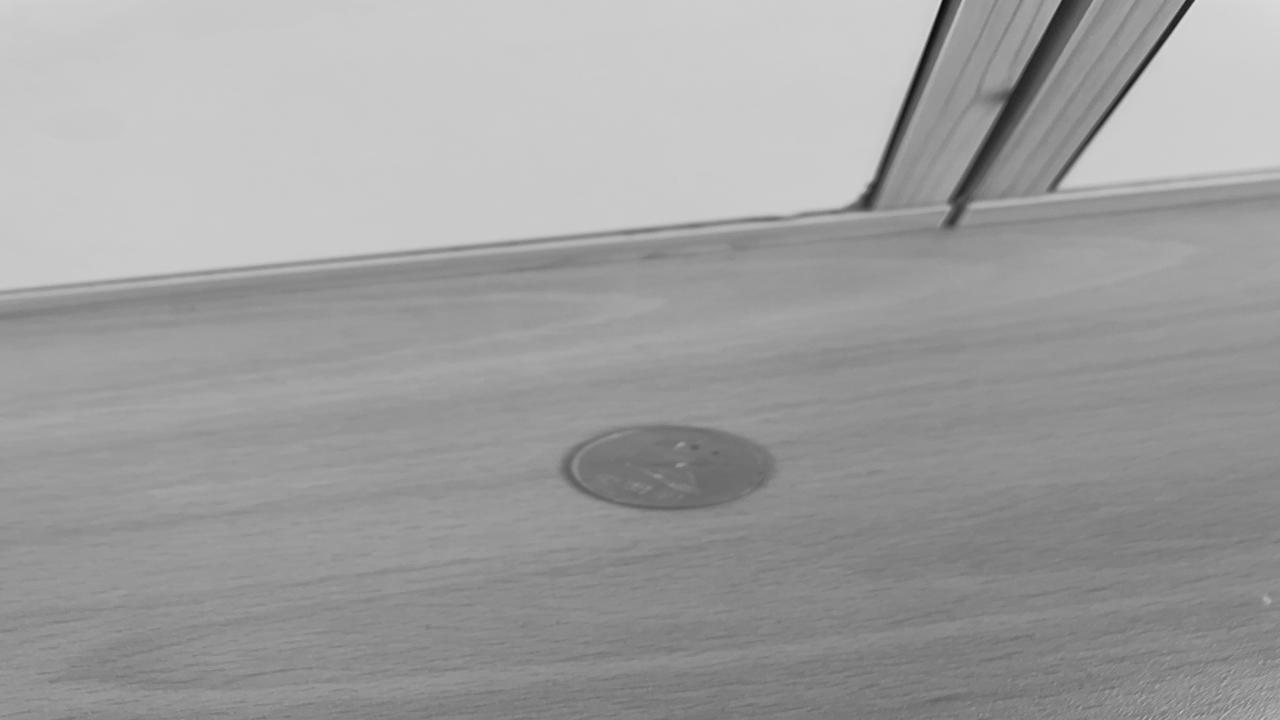coin: (560, 422, 781, 512)
